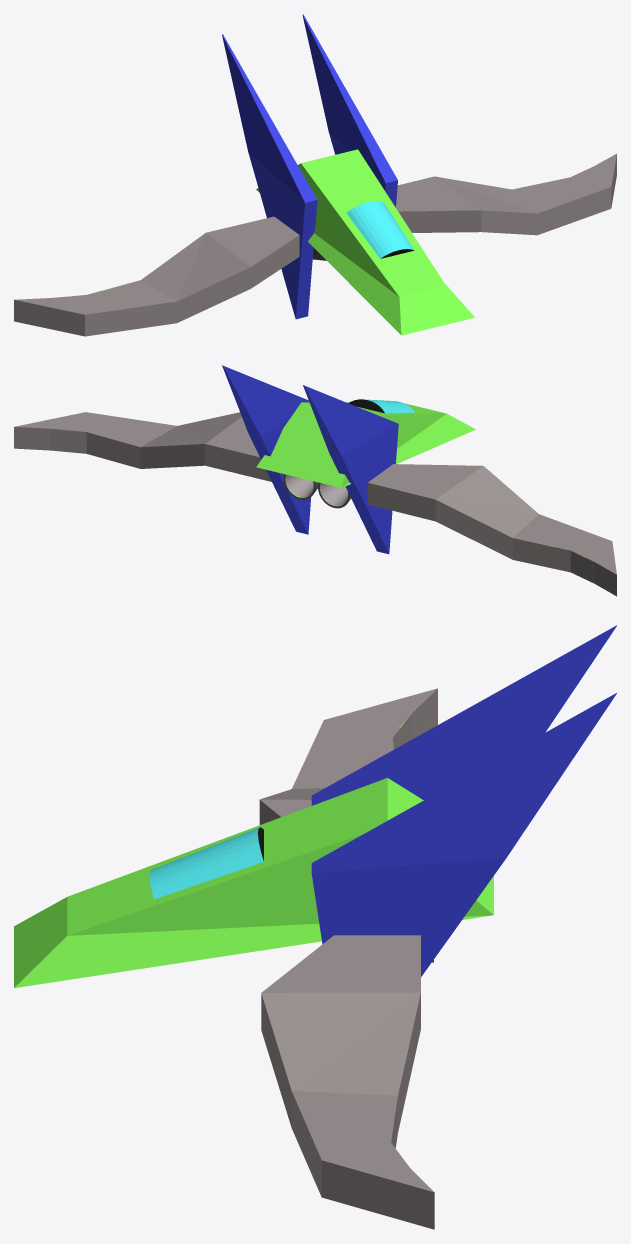
The model's file is Player.obj.
3 renders of one model, top to bottom at view 1: azimuth 30°, elevation 25°; view 2: azimuth 150°, elevation 25°; view 3: azimuth 270°, elevation 25°, orthographic. The views are drawn at different scales.
Visible parts, largest first — view 1: 円柱; view 2: 円柱; view 3: 円柱.
Boxes of the visible parts, x1,y1,x2,y2 form: 円柱: (14,14,616,336); 円柱: (14,365,616,596); 円柱: (14,625,616,1229).
Bounding box in the file's own units: 7.87 × 2.82 × 3.98.
1 material, 1 textured.
